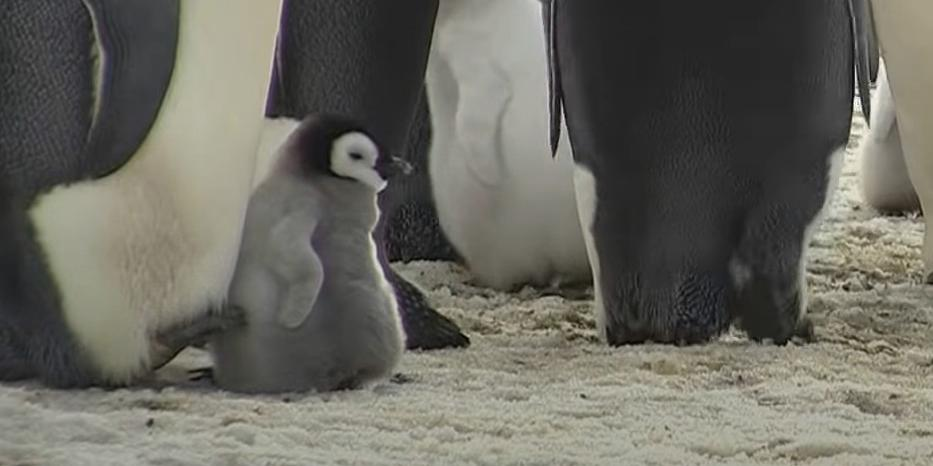Emperor Penguin: (0, 0, 320, 398), (538, 0, 844, 364), (234, 0, 464, 314), (845, 0, 933, 292), (400, 0, 632, 18)
